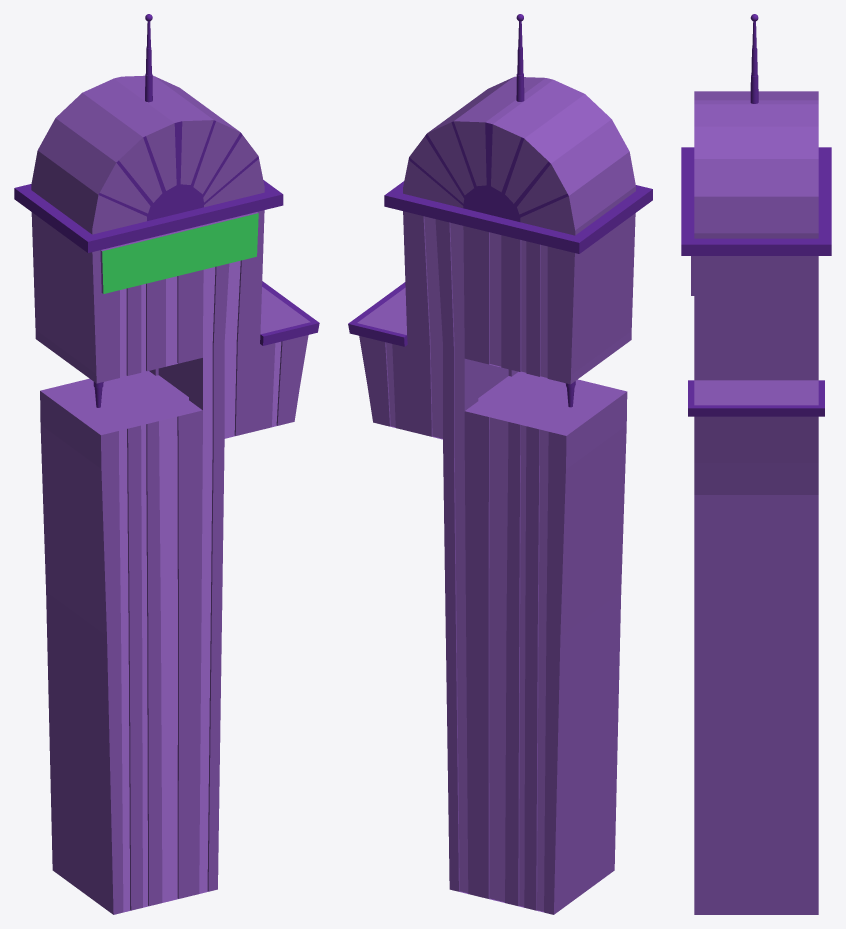
File: City hall (3).fbx
3 views of the same model, side by side, from view 1: azimuth 30°, elevation 25°; view 2: azimuth 150°, elevation 25°; view 3: azimuth 270°, elevation 25° (orthographic). The views are drawn at different scales.
Parts seen in each view (by area): view 1: City hall; view 2: City hall; view 3: City hall, Antenna.
Part boxes in pixels (x1,y1,x2,y2): City hall: [14, 75, 319, 914]; City hall: [348, 76, 652, 914]; City hall: [681, 91, 831, 914]; Antenna: [750, 21, 758, 103].
Bounding box in the file's own units: 819 × 2874 × 445.
